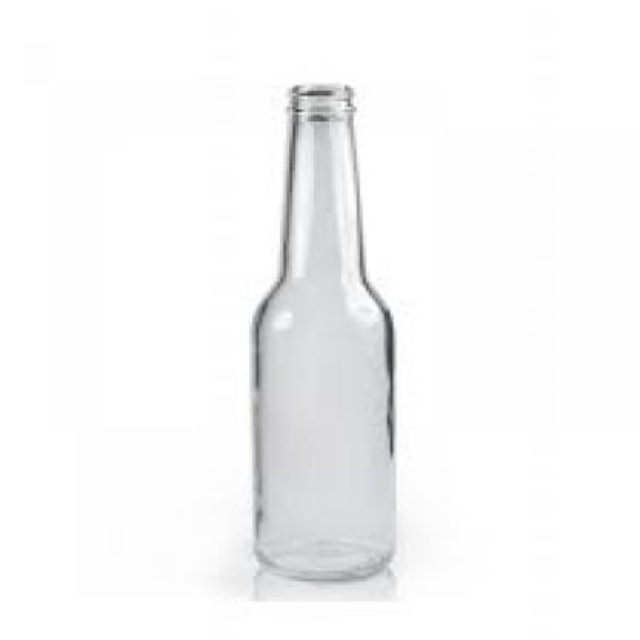trash: (254, 85, 394, 578)
